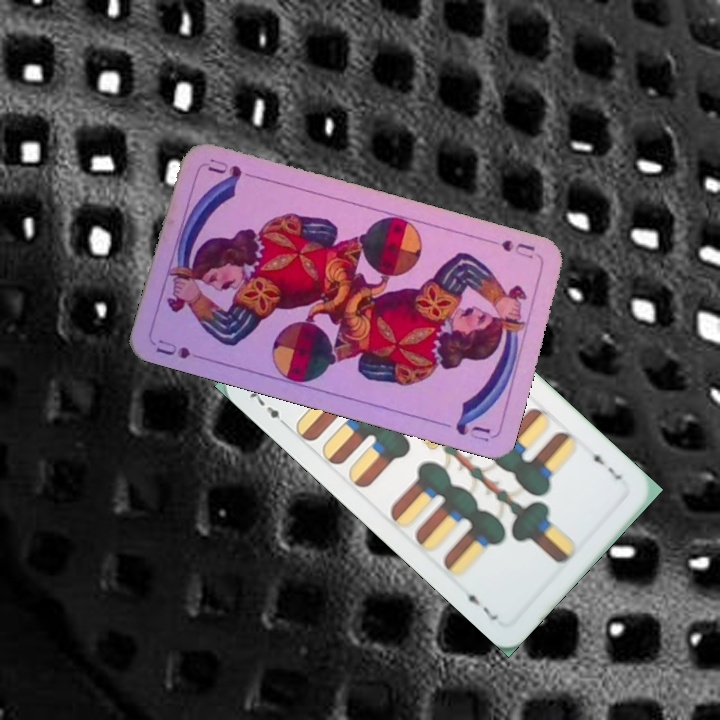E7: (244, 384, 291, 431), (586, 444, 624, 483)
SU: (152, 335, 211, 364), (497, 235, 538, 262)
